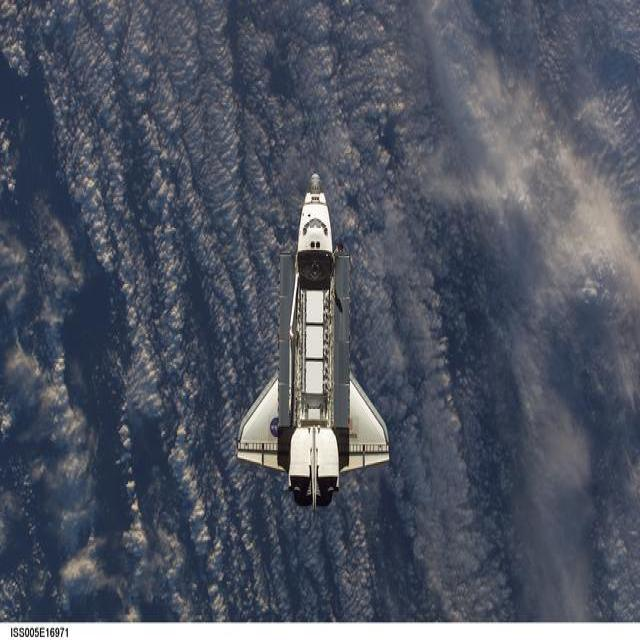satellite: (236, 169, 398, 507)
